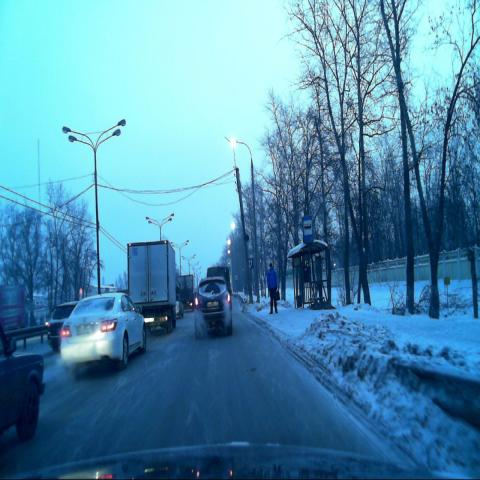5_15_3: (248, 257, 254, 269)
5_16: (302, 216, 314, 243)
